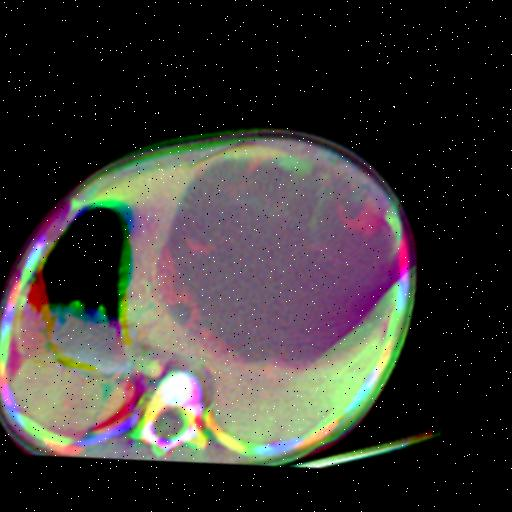Tumor: (173, 165, 274, 263)
